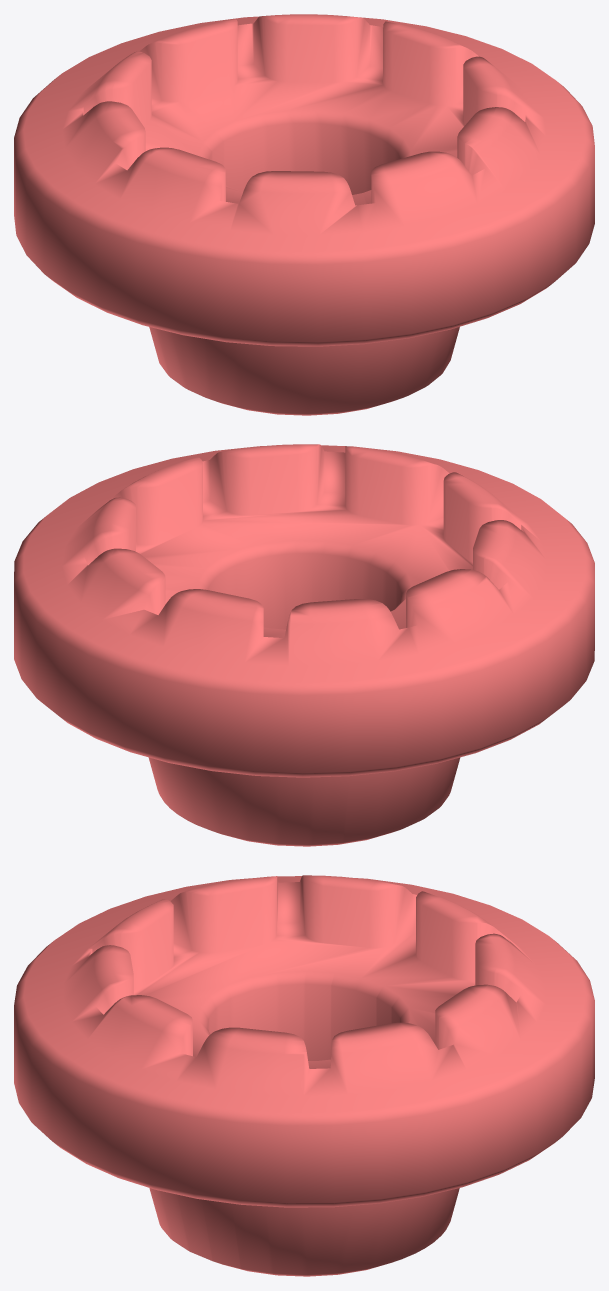
File: solo12_hip_fe_hr_16.obj
The picture shows the model from 3 angles, top to bottom: view 1: azimuth 30°, elevation 25°; view 2: azimuth 150°, elevation 25°; view 3: azimuth 270°, elevation 25°; orthographic projection.
Bounding box in the file's own units: 0.012 × 0.00596 × 0.012.
